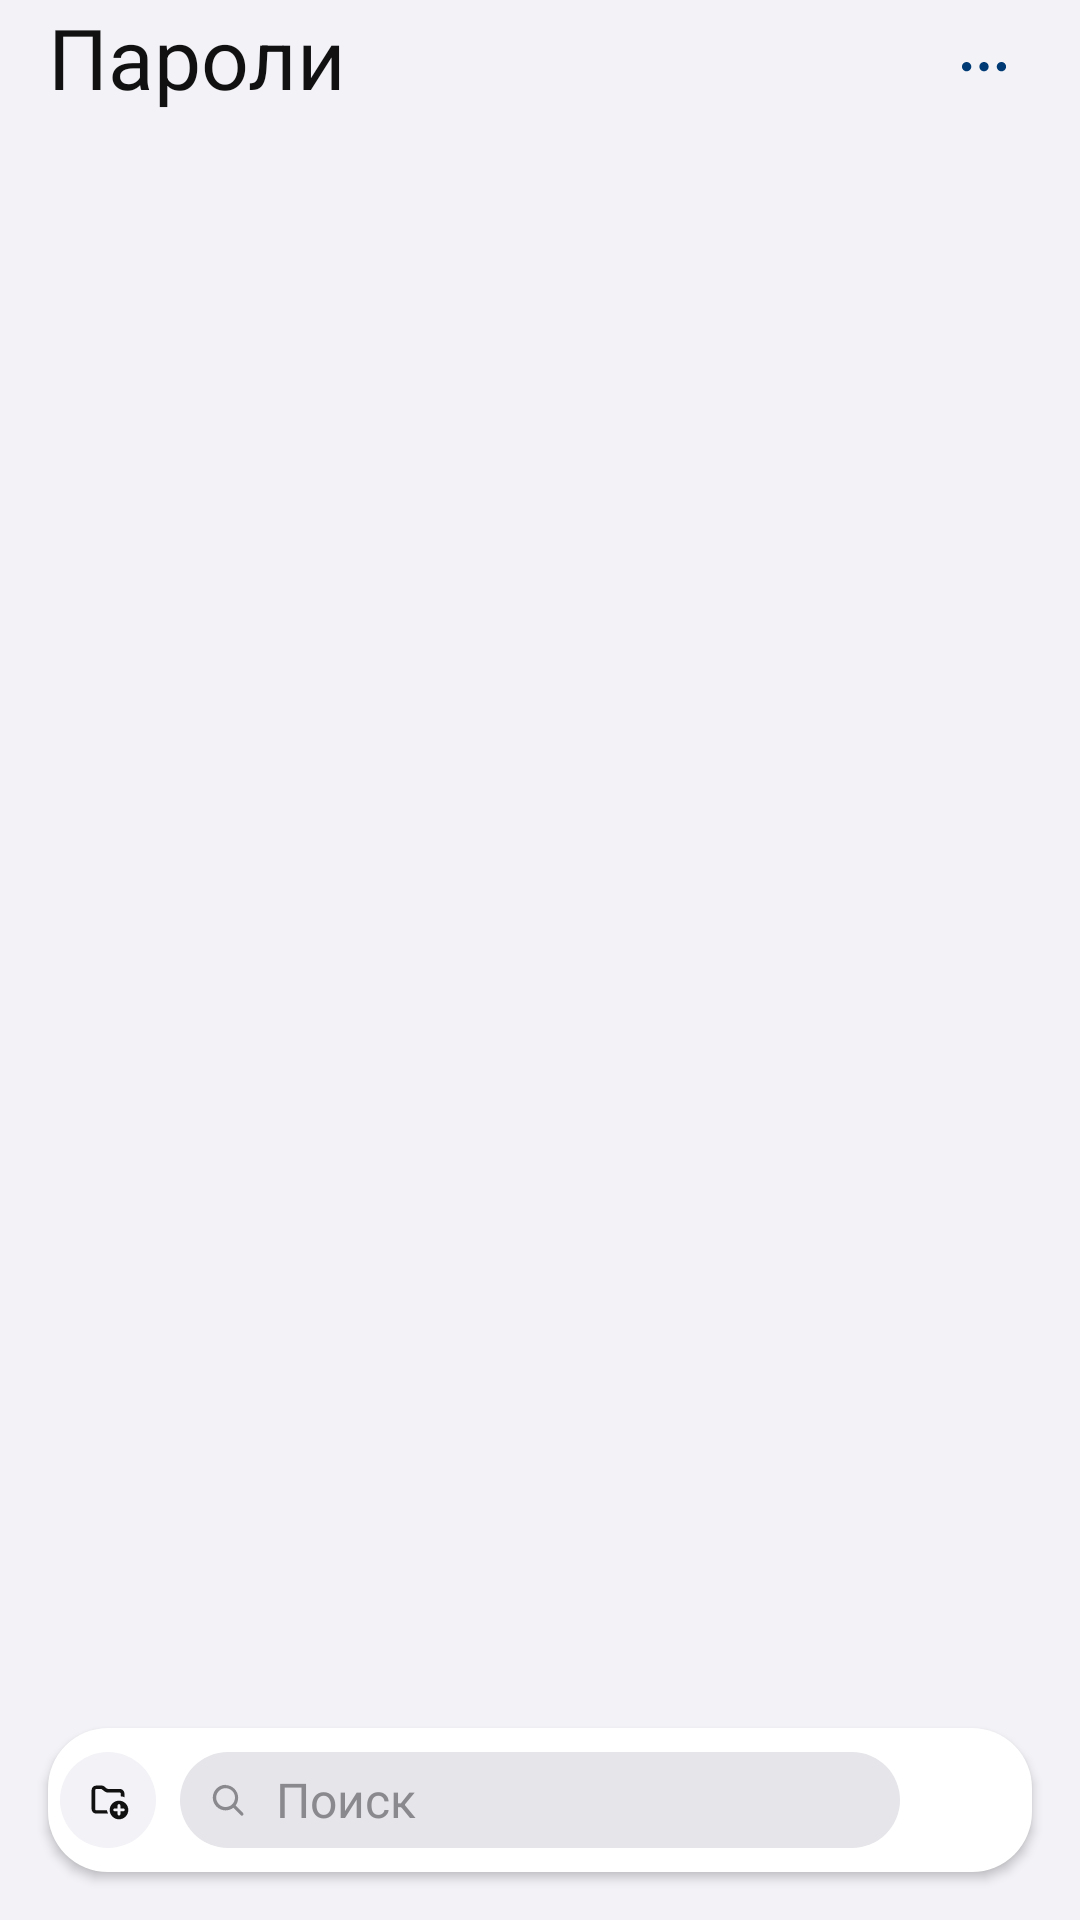

Screen size 1080×1920. Icon name, then its box in pixels as {"left": x1, "top": y1, "right": x2, "bottom": y2}:
folder plus: {"left": 60, "top": 1752, "right": 156, "bottom": 1848}
more: {"left": 962, "top": 62, "right": 1006, "bottom": 72}
search: {"left": 213, "top": 1785, "right": 244, "bottom": 1816}
